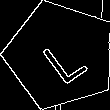L_NW: (32, 26, 89, 85)
